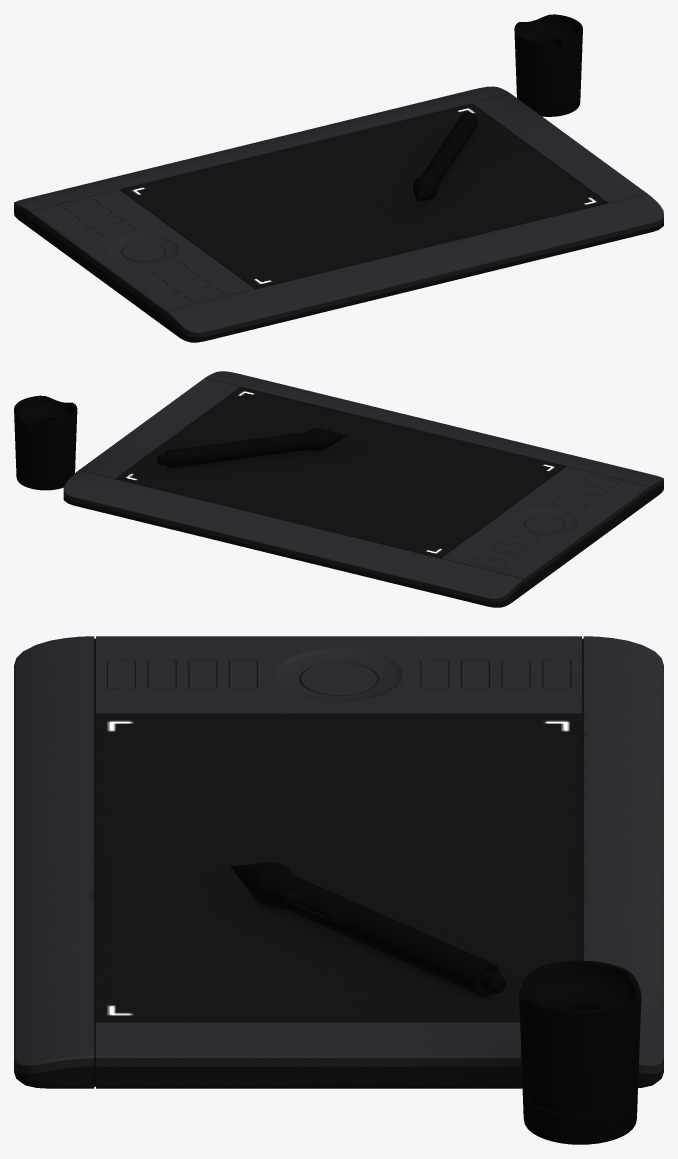
3 views of the same model, one above another, from view 1: azimuth 30°, elevation 25°; view 2: azimuth 150°, elevation 25°; view 3: azimuth 270°, elevation 25° (orthographic). The views are drawn at different scales.
Visible parts, largest first — view 1: Tablet_Aa_001; view 2: Tablet_Aa_001; view 3: Tablet_Aa_001.
Boxes of the visible parts, bbox=[...] form: Tablet_Aa_001: bbox=[14, 14, 663, 342]; Tablet_Aa_001: bbox=[14, 371, 663, 607]; Tablet_Aa_001: bbox=[14, 636, 663, 1144].
Bounding box in the file's own units: 36.63 × 4.83 × 21.
1 material, 1 textured.
